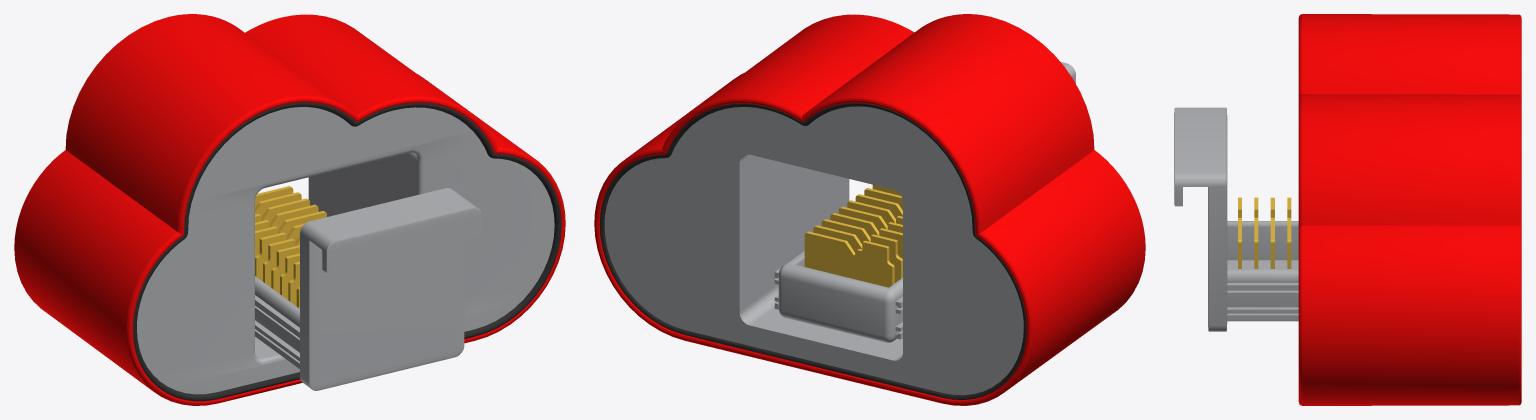
Rendered from cloud_file_storage.glb.
3 views of the same model, side by side, from view 1: azimuth 30°, elevation 25°; view 2: azimuth 150°, elevation 25°; view 3: azimuth 270°, elevation 25° (orthographic). The views are drawn at different scales.
Parts seen in each view (by area): view 1: Object_5, Object_3, Object_2, Object_4; view 2: Object_5, Object_3, Object_4, Object_2; view 3: Object_3, Object_5, Object_4.
Part boxes in pixels (x1,y1,x2,y2): Object_5: (137, 107, 554, 394); Object_3: (14, 14, 565, 405); Object_2: (132, 102, 561, 401); Object_4: (255, 186, 326, 308); Object_5: (604, 62, 1075, 395); Object_3: (594, 14, 1145, 405); Object_4: (804, 184, 902, 287); Object_2: (599, 103, 1026, 399); Object_3: (1298, 14, 1521, 405); Object_5: (1174, 107, 1298, 331); Object_4: (1238, 197, 1291, 268).
Bounding box in the file's own units: 2.51 × 1.58 × 1.77.
